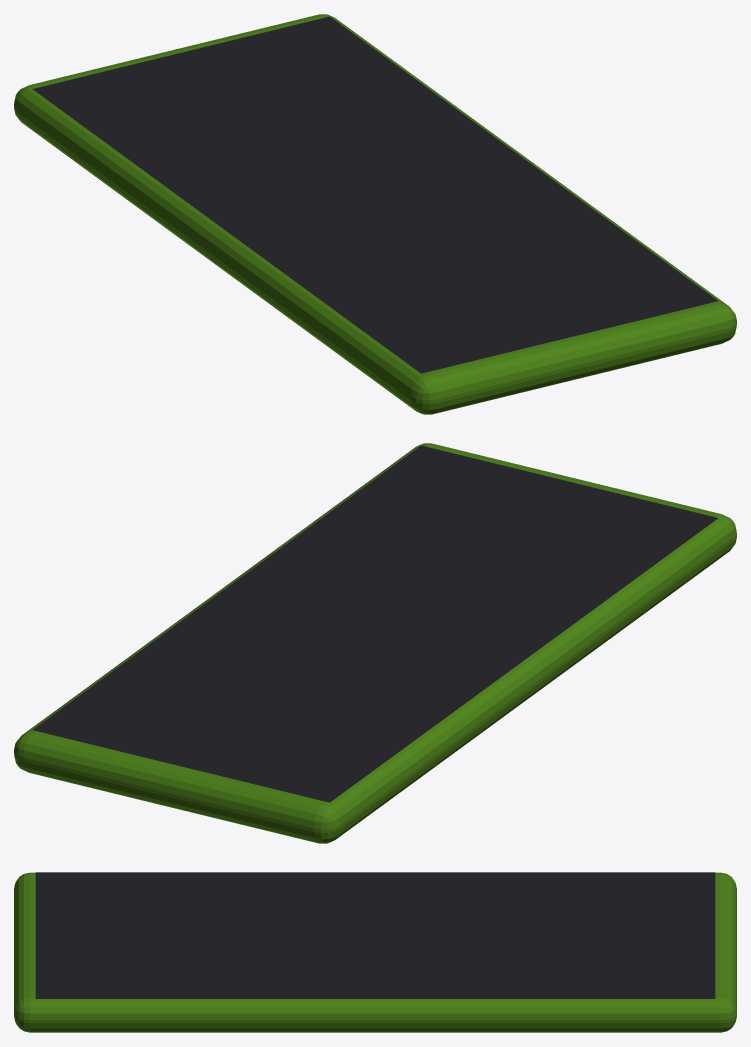
Rendered from oppo-reno-model-303-flagship-2025.glb.
3 renders of one model, top to bottom at view 1: azimuth 30°, elevation 25°; view 2: azimuth 150°, elevation 25°; view 3: azimuth 270°, elevation 25°, orthographic. The views are drawn at different scales.
Parts seen in each view (by area): view 1: Phone_Screen, Phone_Body; view 2: Phone_Screen, Phone_Body; view 3: Phone_Screen, Phone_Body.
Boxes of the visible parts, x1,y1,x2,y2 form: Phone_Screen: [32, 16, 717, 373]; Phone_Body: [14, 14, 736, 414]; Phone_Screen: [33, 445, 718, 802]; Phone_Body: [14, 443, 736, 843]; Phone_Screen: [35, 872, 715, 998]; Phone_Body: [14, 872, 736, 1032].
Size of the model in its own units: 0.0706 by 0.008 by 0.1564.
